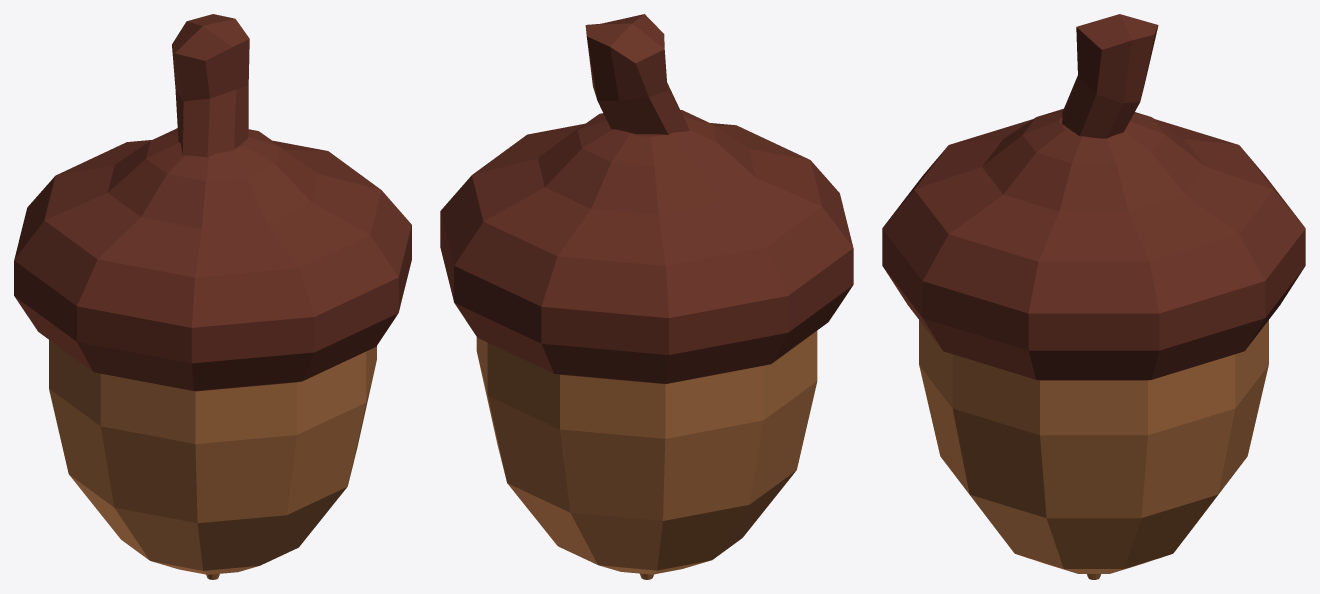
File: Acorhs_v1_FBX.fbx
The picture shows the model from 3 angles, left to right: view 1: azimuth 30°, elevation 25°; view 2: azimuth 150°, elevation 25°; view 3: azimuth 270°, elevation 25°; orthographic projection. The views are drawn at different scales.
Visible parts, largest first — view 1: polySurface3; view 2: polySurface3; view 3: polySurface3.
Boxes of the visible parts, bbox=[...] form: polySurface3: bbox=[14, 14, 411, 579]; polySurface3: bbox=[440, 14, 853, 579]; polySurface3: bbox=[882, 14, 1305, 579].
Size of the model in its own units: 2.97 by 4.6 by 3.12.
